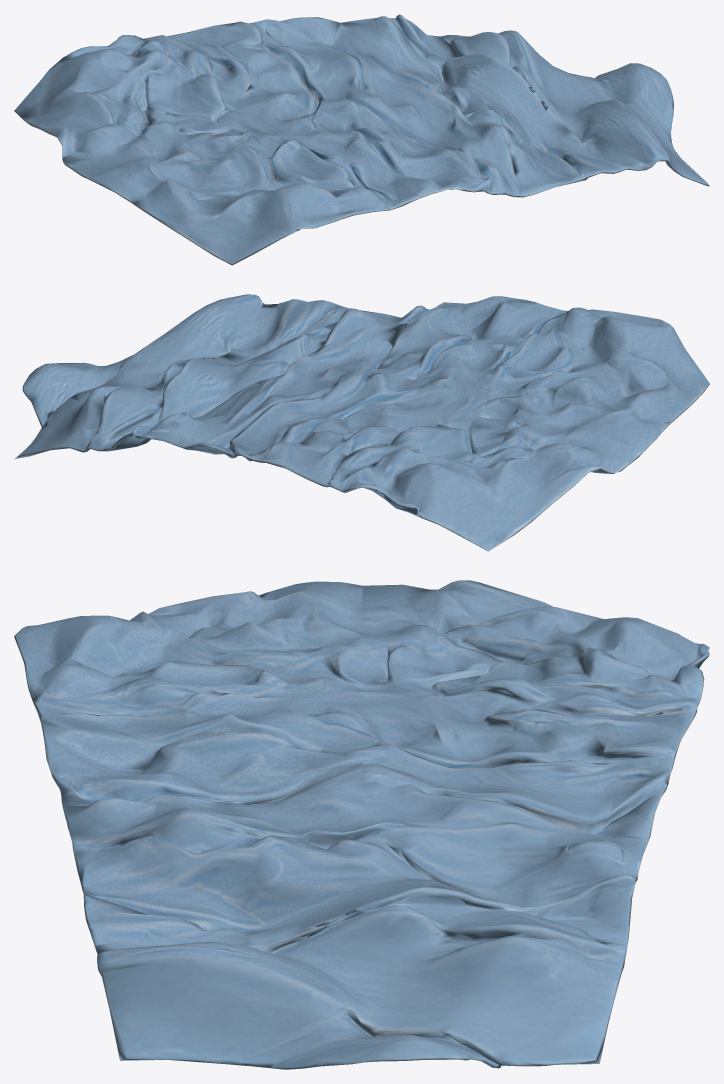
The model's file is water-surface.glb.
3 views of the same model, one above another, from view 1: azimuth 30°, elevation 25°; view 2: azimuth 150°, elevation 25°; view 3: azimuth 270°, elevation 25° (orthographic). The views are drawn at different scales.
Parts seen in each view (by area): view 1: tripo_node_48223f66-cb68-4282-8103-1eb62e9139f1; view 2: tripo_node_48223f66-cb68-4282-8103-1eb62e9139f1; view 3: tripo_node_48223f66-cb68-4282-8103-1eb62e9139f1.
Boxes of the visible parts, x1,y1,x2,y2 form: tripo_node_48223f66-cb68-4282-8103-1eb62e9139f1: (14,14,709,265); tripo_node_48223f66-cb68-4282-8103-1eb62e9139f1: (14,294,709,551); tripo_node_48223f66-cb68-4282-8103-1eb62e9139f1: (14,580,709,1069).
Bounding box in the file's own units: 0.9789 × 0.175 × 0.7125.
1 material, 1 textured.
